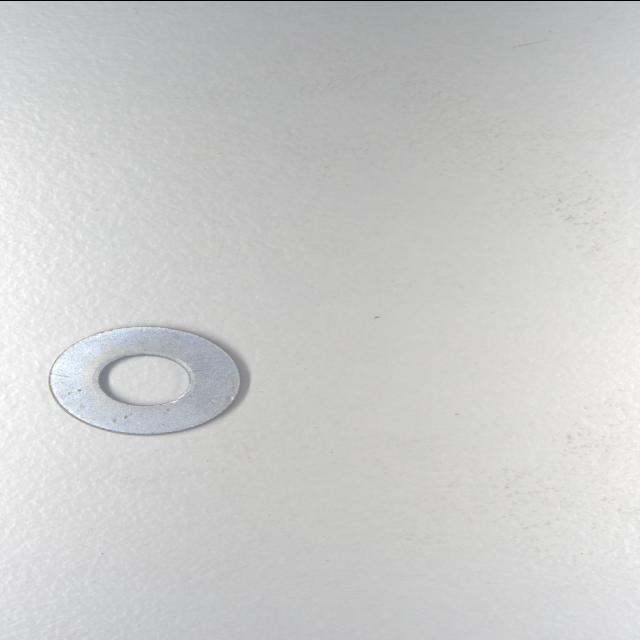washer: (46, 322, 243, 434)
